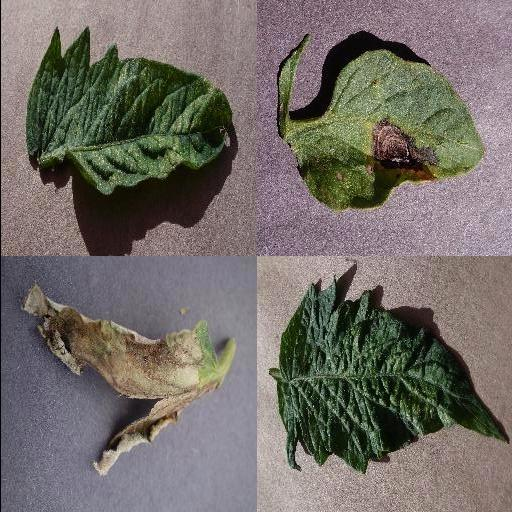Early Blight: (287, 49, 485, 213)
Late Blight: (16, 281, 220, 477)
Spider Mites: (278, 276, 508, 472), (26, 26, 234, 196)
